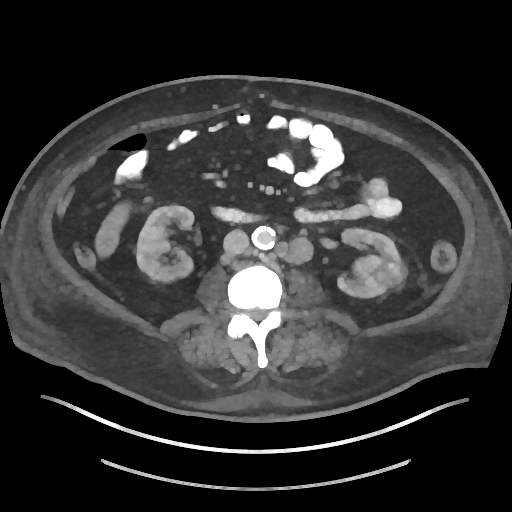Lesion: (370, 256, 410, 295)
